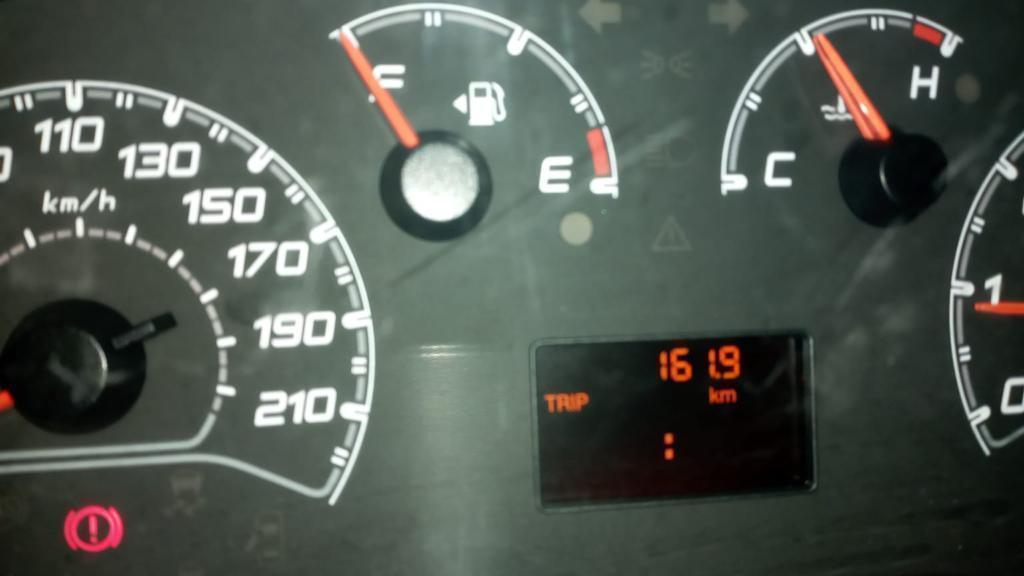,: (715, 370, 721, 381)
1: (658, 348, 669, 384), (707, 345, 717, 379)
6: (670, 345, 692, 383)
9: (719, 342, 741, 380)
X: (660, 427, 679, 465), (543, 391, 556, 415), (556, 390, 569, 414), (720, 387, 736, 404), (577, 391, 589, 412), (708, 384, 718, 405), (570, 389, 576, 417)
odometer: (531, 323, 823, 511)
